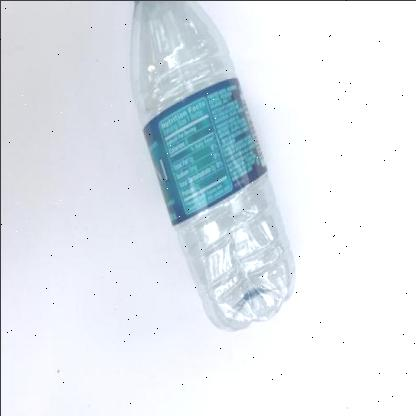Plastic Bottle: (129, 0, 293, 330)
